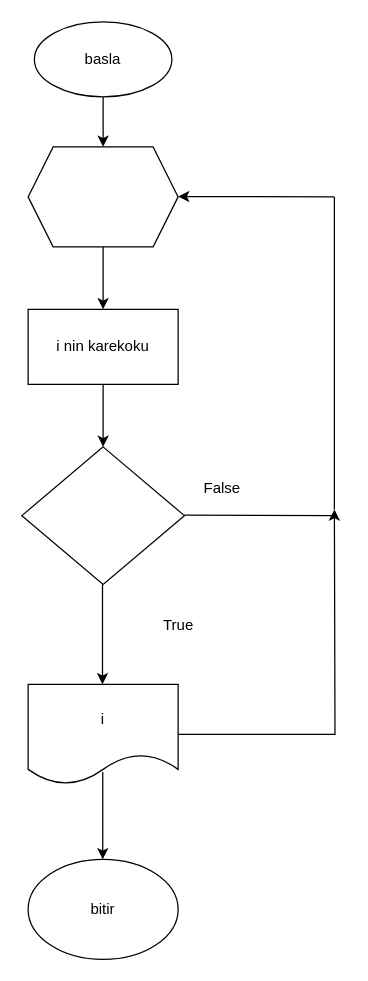
The diagram is 368 pixels wide and 981 high, and some of its shapes have lost their labels. The box of each missing label's shape, as (x1, y1, x2, y2) in pixels:
10'dan 110'a kadar her i sayisi icin: (27, 146, 178, 247)
Eger sonuc tam sayi ise: (21, 446, 184, 584)
